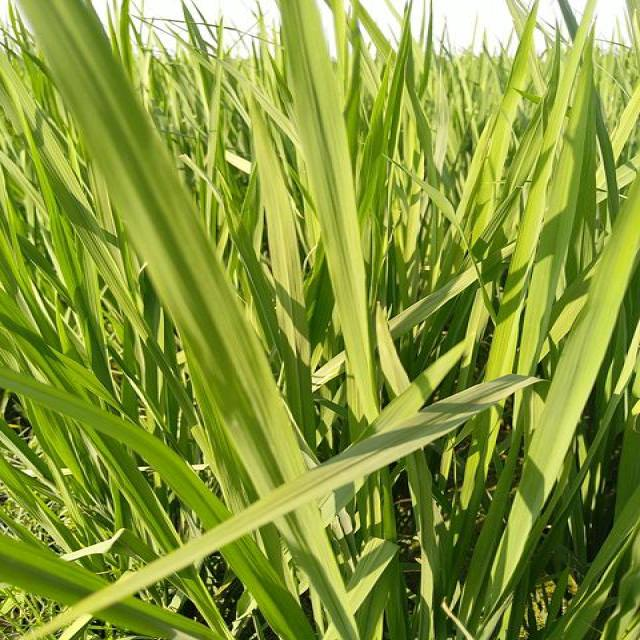Rice: (490, 205, 639, 611), (283, 0, 377, 417), (106, 174, 280, 394), (22, 0, 200, 175), (0, 540, 225, 640), (440, 45, 528, 272), (220, 526, 360, 640), (521, 28, 607, 205), (194, 391, 311, 521), (50, 168, 111, 373), (122, 425, 222, 530), (1, 376, 124, 430)
